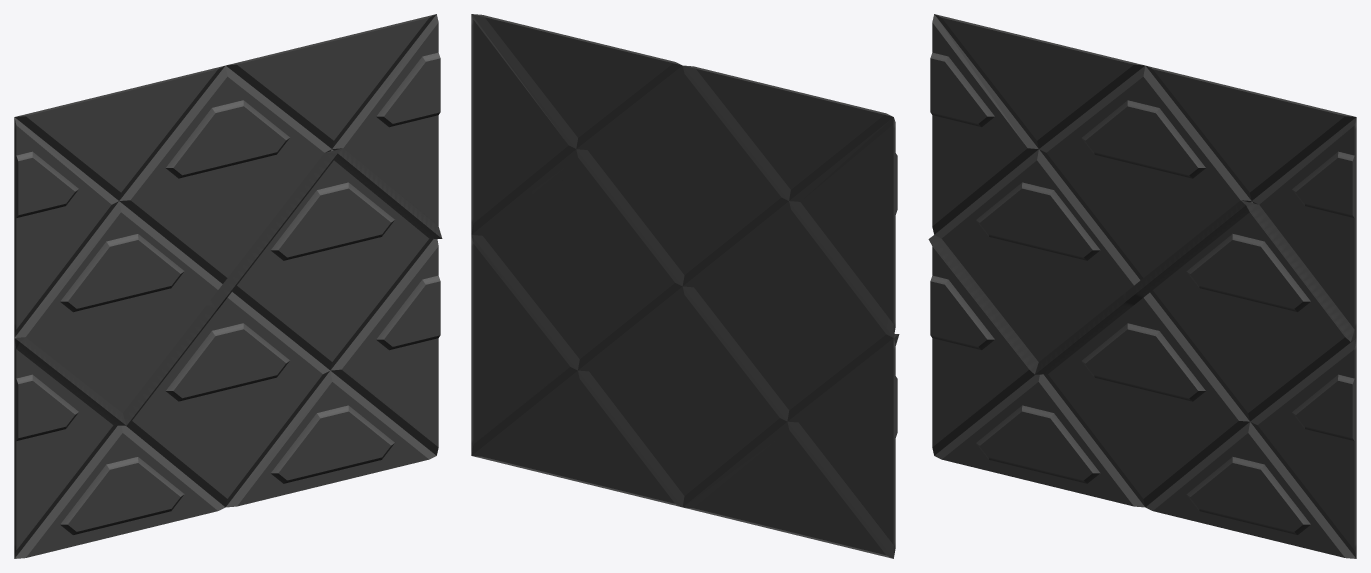
File: sec1_2b.fbx
3 renders of one model, left to right at view 1: azimuth 30°, elevation 25°; view 2: azimuth 150°, elevation 25°; view 3: azimuth 330°, elevation 25°, orthographic.
Visible parts, largest first — view 1: sec1_2b_mesh, sec1_2b_wire; view 2: sec1_2b_mesh; view 3: sec1_2b_mesh, sec1_2b_wire.
Part boxes in pixels (box(x1,y1,x2,y2)): sec1_2b_mesh: box(14, 14, 440, 558); sec1_2b_wire: box(14, 148, 442, 425); sec1_2b_mesh: box(471, 14, 897, 558); sec1_2b_mesh: box(930, 14, 1356, 558); sec1_2b_wire: box(928, 200, 1356, 374).
Bounding box in the file's own units: 256 × 256 × 6.
